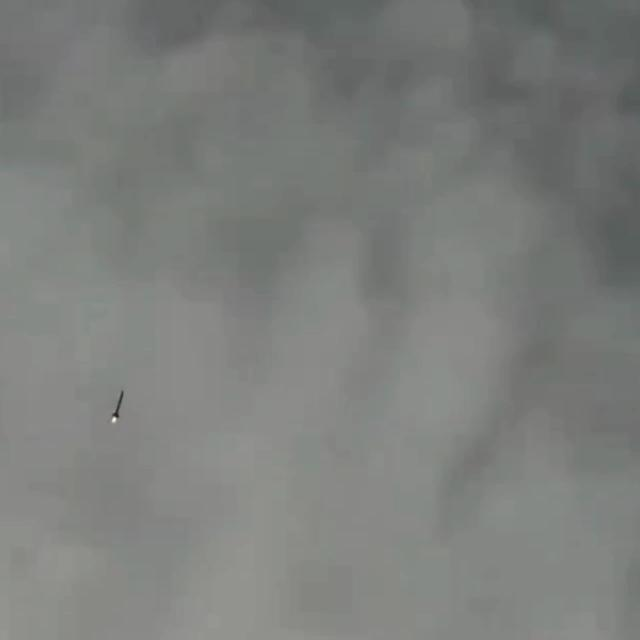rocket: (108, 391, 127, 423)
